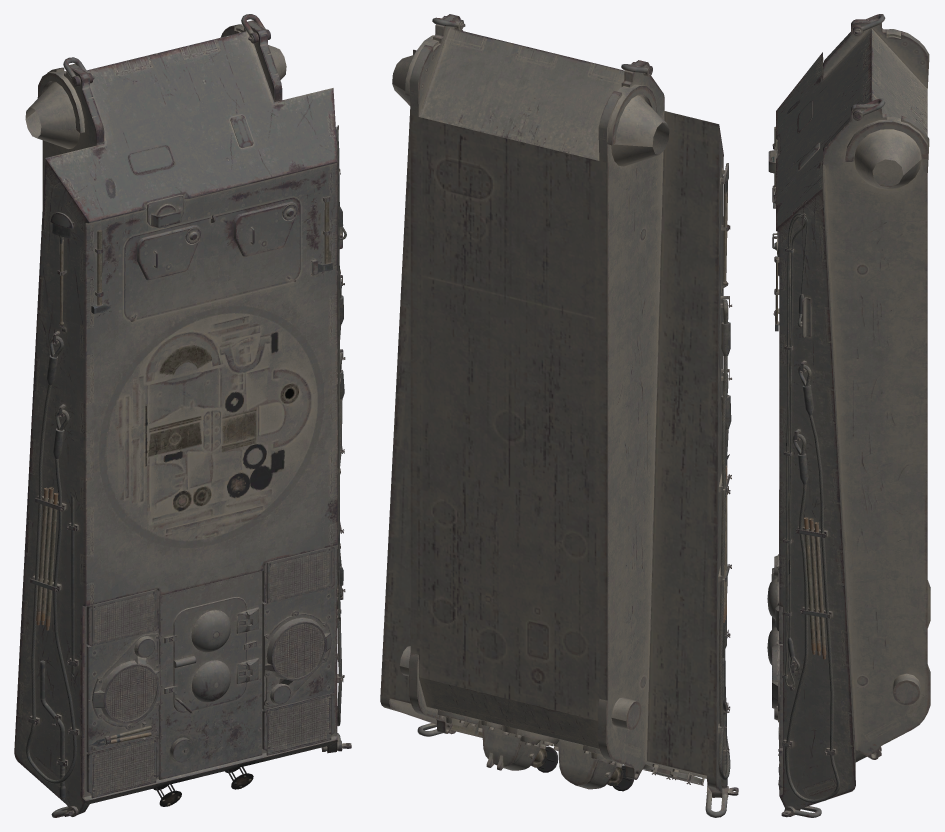
File: Hull.glb
3 renders of one model, left to right at view 1: azimuth 30°, elevation 25°; view 2: azimuth 150°, elevation 25°; view 3: azimuth 270°, elevation 25°, orthographic. The views are drawn at different scales.
Visible parts, largest first — view 1: set_0_group_0; view 2: set_0_group_0; view 3: set_0_group_0.
Part boxes in pixels (x1,y1,x2,y2): set_0_group_0: (14,14,351,817); set_0_group_0: (380,14,738,817); set_0_group_0: (767,14,930,817).
Size of the model in its own units: 3.27 by 7.2 by 1.5.
Materials: 1 (1 with a texture image).
